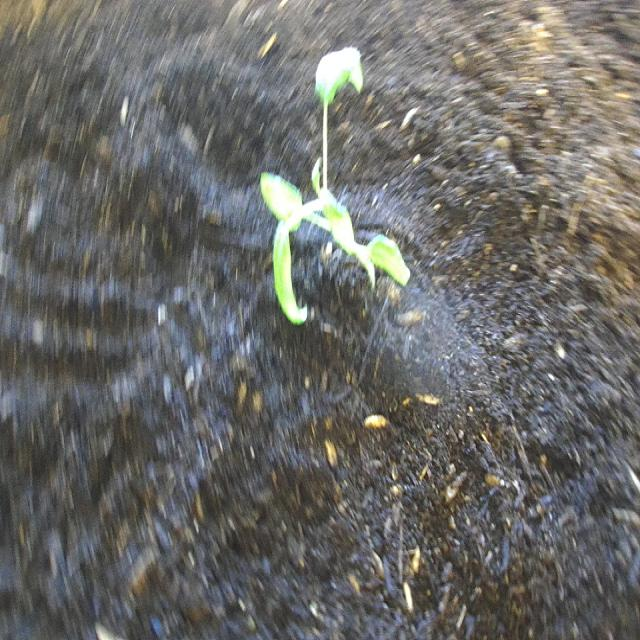Healthy: (258, 45, 413, 330)
